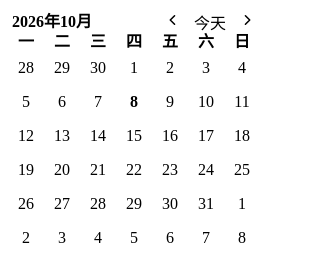
Calendar › pages months and blocks dates out of range
The width and height of the screenshot is (320, 260).
Check: the cell named "2026年10月4日 星期日" is disabled, box [226,52,258,84]
Press PageDown in the cell named "2026年10月8日 星期四", box [118,86,150,118]
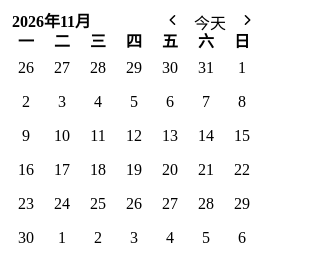
Check: the text "2026年11月" is shown, box [12,8,91,32]
Click the button named "上个月" at (173,20), box [162,10,184,30]
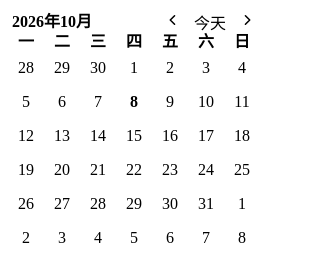
Click the button named "上个月" at (173,20), box [162,10,184,30]
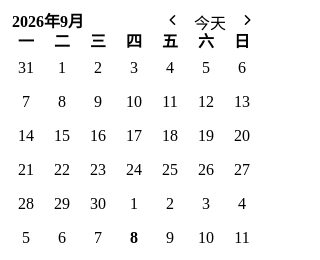
Check: the text "2026年9月" is shown, box [12,8,84,32]
Click the button "今天" at (210,20), box [186,10,234,30]
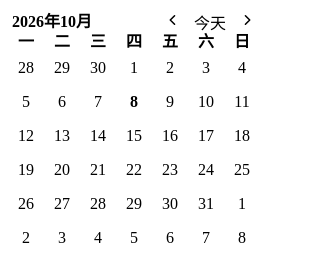
Check: the text "2026年10月" is shown, box [12,8,92,32]
